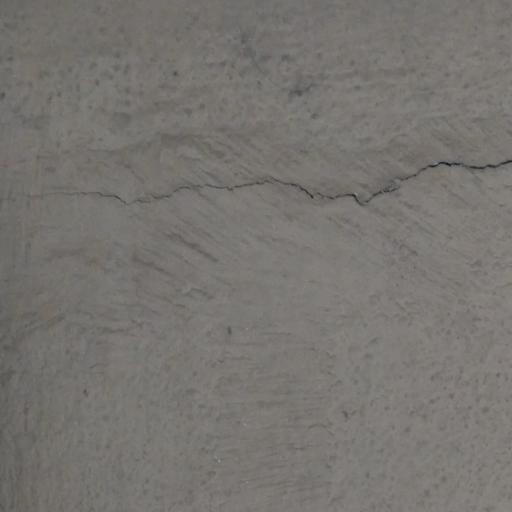minor_crack: (0, 141, 512, 222)
